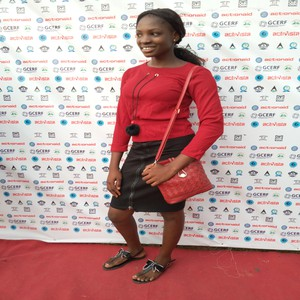Fulokoja_female_student: (119, 10, 190, 269)
